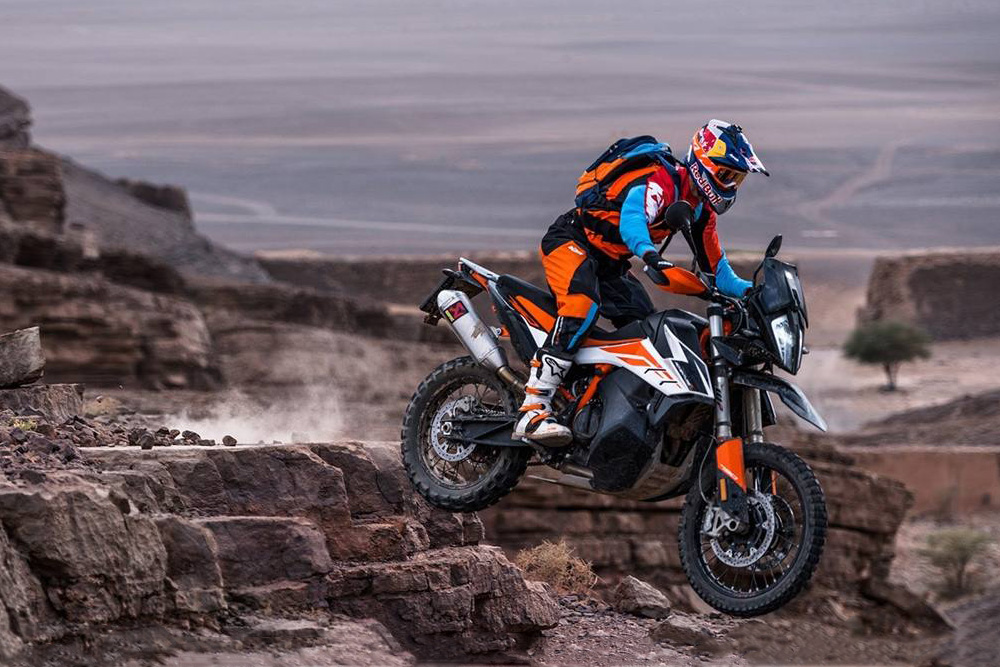motorcycle: (401, 238, 838, 615)
